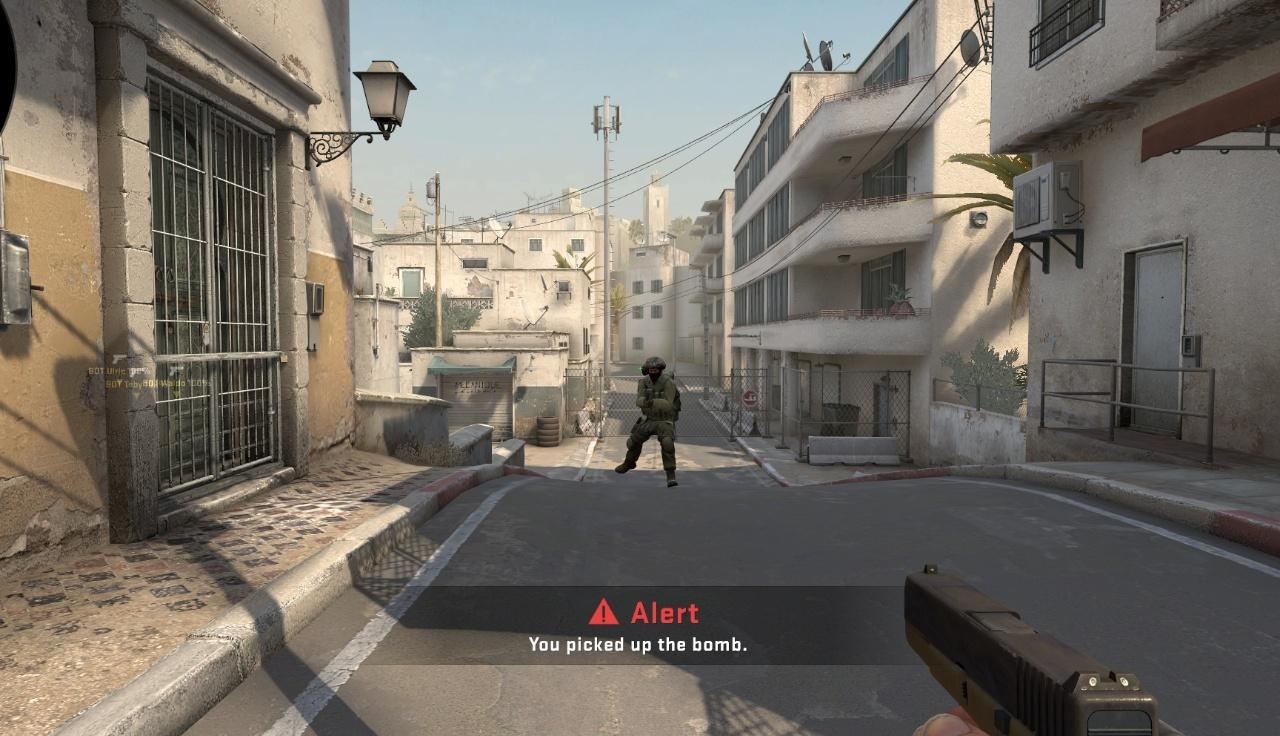ct: (625, 357, 682, 487)
cthead: (647, 359, 662, 380)
pistol: (903, 563, 1201, 736)
